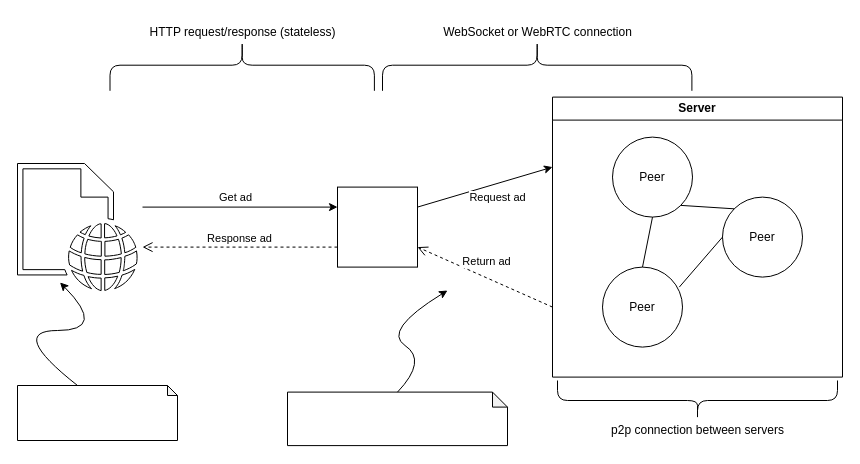
This 860x464 diagram has some shape labels left out. Each missing label, with the centre of its shape:
"A webpage who iframes '/ad' endpoint" goes at pixel 97 412.
"Proxy" goes at pixel 377 226.
"Proxy chooses a peer who loads the resource and relays it back to proxy" goes at pixel 397 418.
